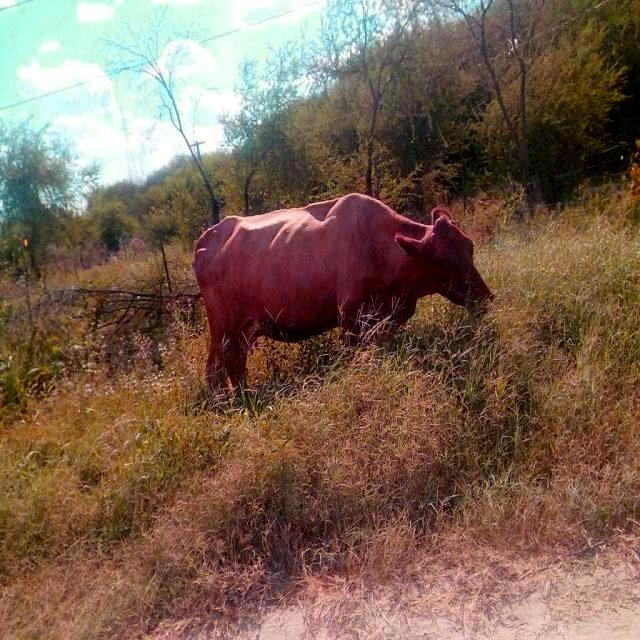COW: (192, 194, 494, 389)
